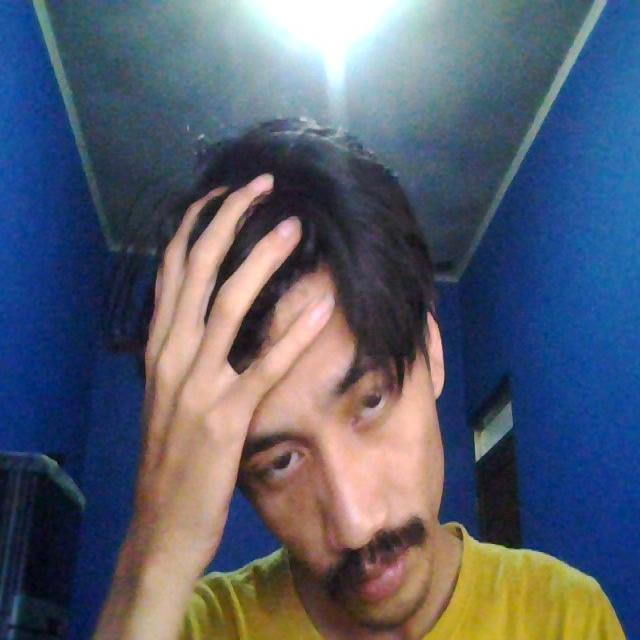movement: (111, 124, 456, 640)
